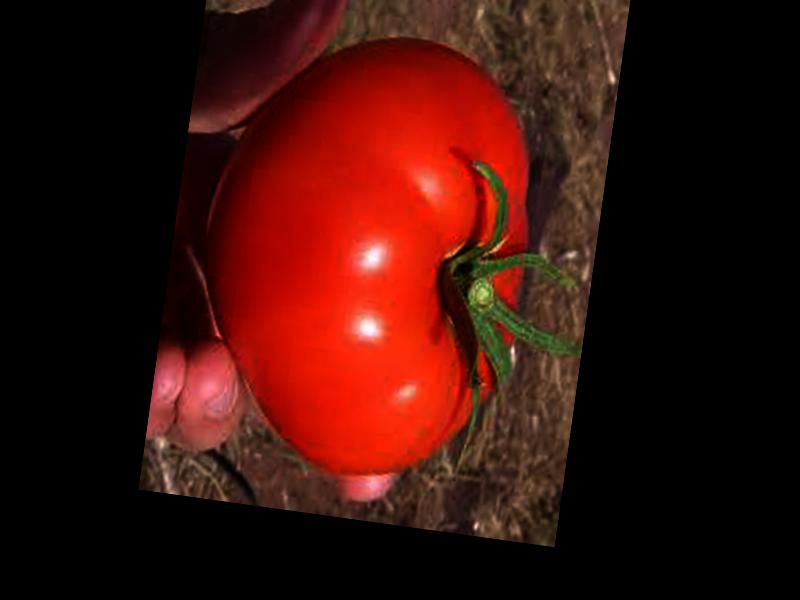Tomato: (179, 14, 553, 493)
